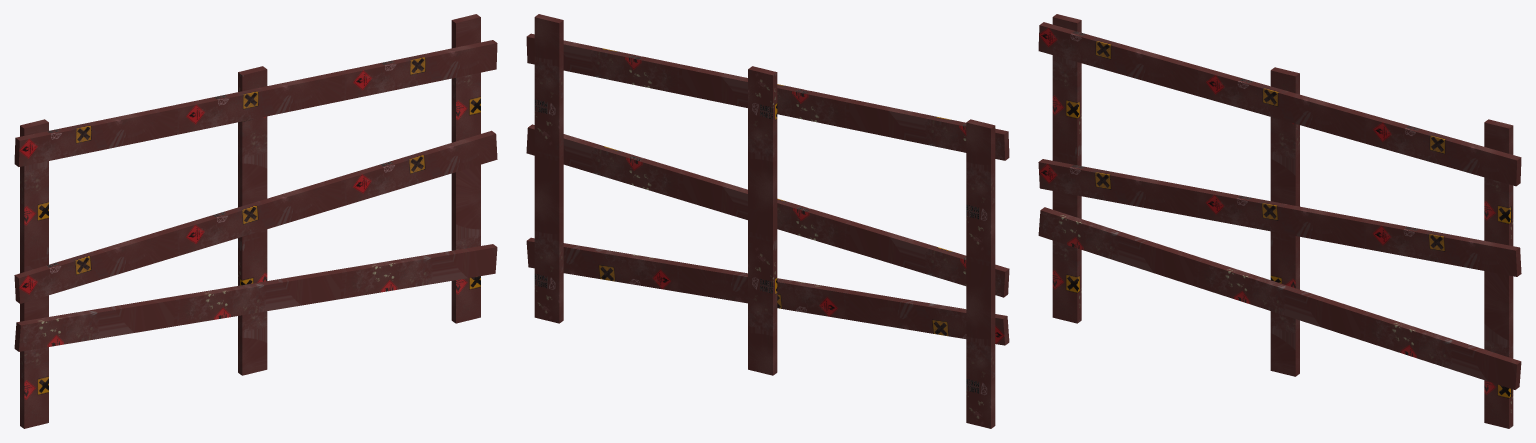
The model's file is CS_fance_inside_04.FBX.
The picture shows the model from 3 angles, left to right: view 1: azimuth 30°, elevation 25°; view 2: azimuth 150°, elevation 25°; view 3: azimuth 330°, elevation 25°; orthographic projection.
Parts seen in each view (by area): view 1: SM_fance_inside_04; view 2: SM_fance_inside_04; view 3: SM_fance_inside_04.
Part boxes in pixels (x1,y1,x2,y2): SM_fance_inside_04: [14, 14, 497, 428]; SM_fance_inside_04: [526, 14, 1009, 428]; SM_fance_inside_04: [1038, 14, 1521, 428].
Bounding box in the file's own units: 192 × 6 × 115.
